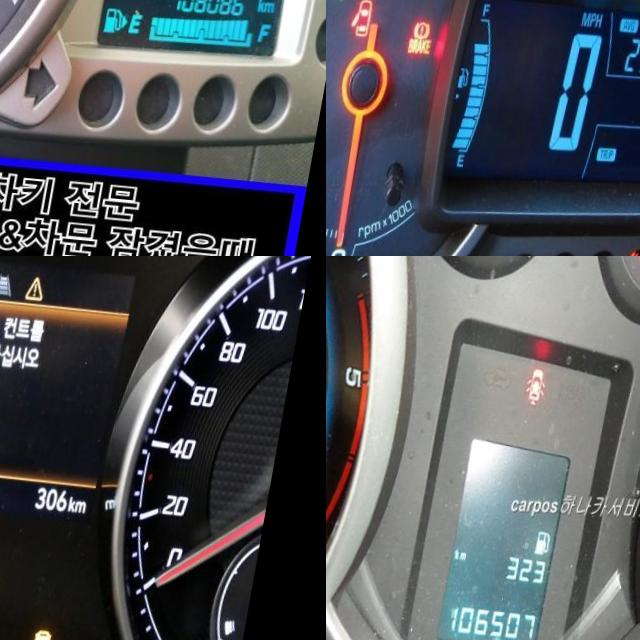Central Warning lamp: (33, 268, 55, 294)
Doors: (530, 360, 555, 399), (360, 0, 384, 32)
